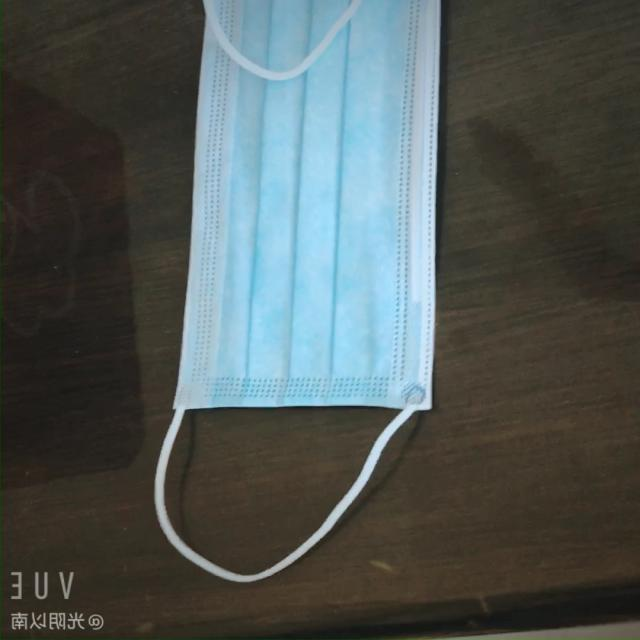face mask: (152, 21, 448, 422)
